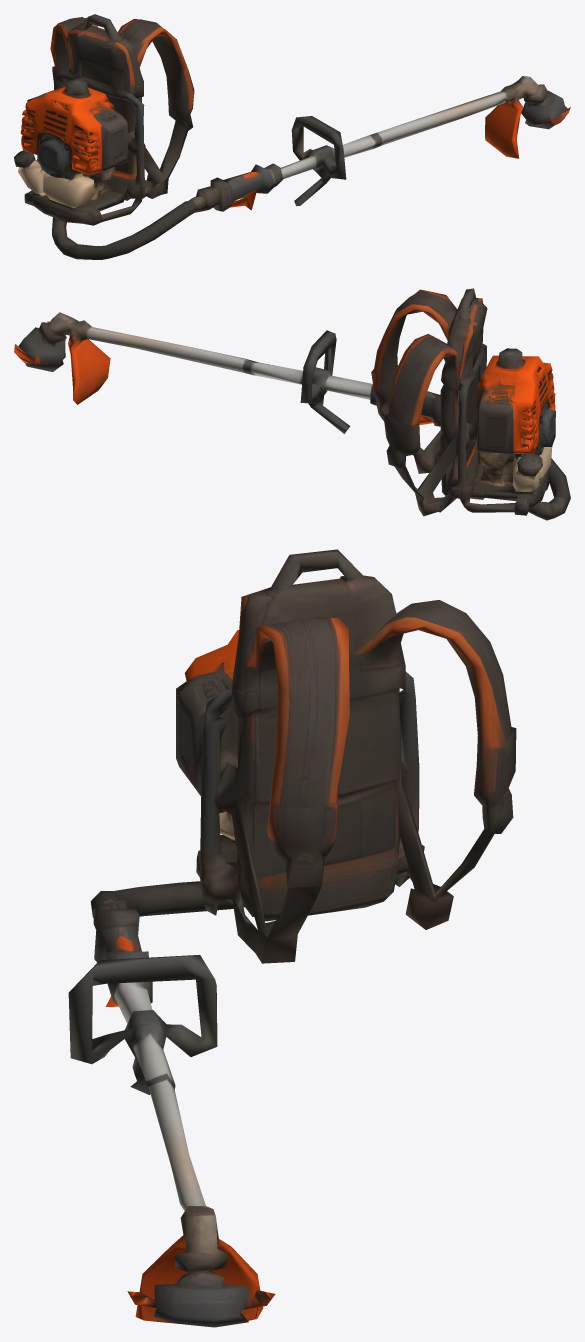
File: sirt_motoru.glb
The picture shows the model from 3 angles, top to bottom: view 1: azimuth 30°, elevation 25°; view 2: azimuth 150°, elevation 25°; view 3: azimuth 270°, elevation 25°; orthographic projection. The views are drawn at different scales.
Parts seen in each view (by area): view 1: tripo_node_51728afe-eca0-4ecc-9dcf-5df8a6246ea6; view 2: tripo_node_51728afe-eca0-4ecc-9dcf-5df8a6246ea6; view 3: tripo_node_51728afe-eca0-4ecc-9dcf-5df8a6246ea6.
Part boxes in pixels (left/top/right/bottom): tripo_node_51728afe-eca0-4ecc-9dcf-5df8a6246ea6: left=14, top=14, right=570, bottom=259; tripo_node_51728afe-eca0-4ecc-9dcf-5df8a6246ea6: left=14, top=288, right=570, bottom=520; tripo_node_51728afe-eca0-4ecc-9dcf-5df8a6246ea6: left=68, top=549, right=516, bottom=1327.
Size of the model in its own units: 0.9799 by 0.3755 by 0.3708.
1 material, 1 textured.
